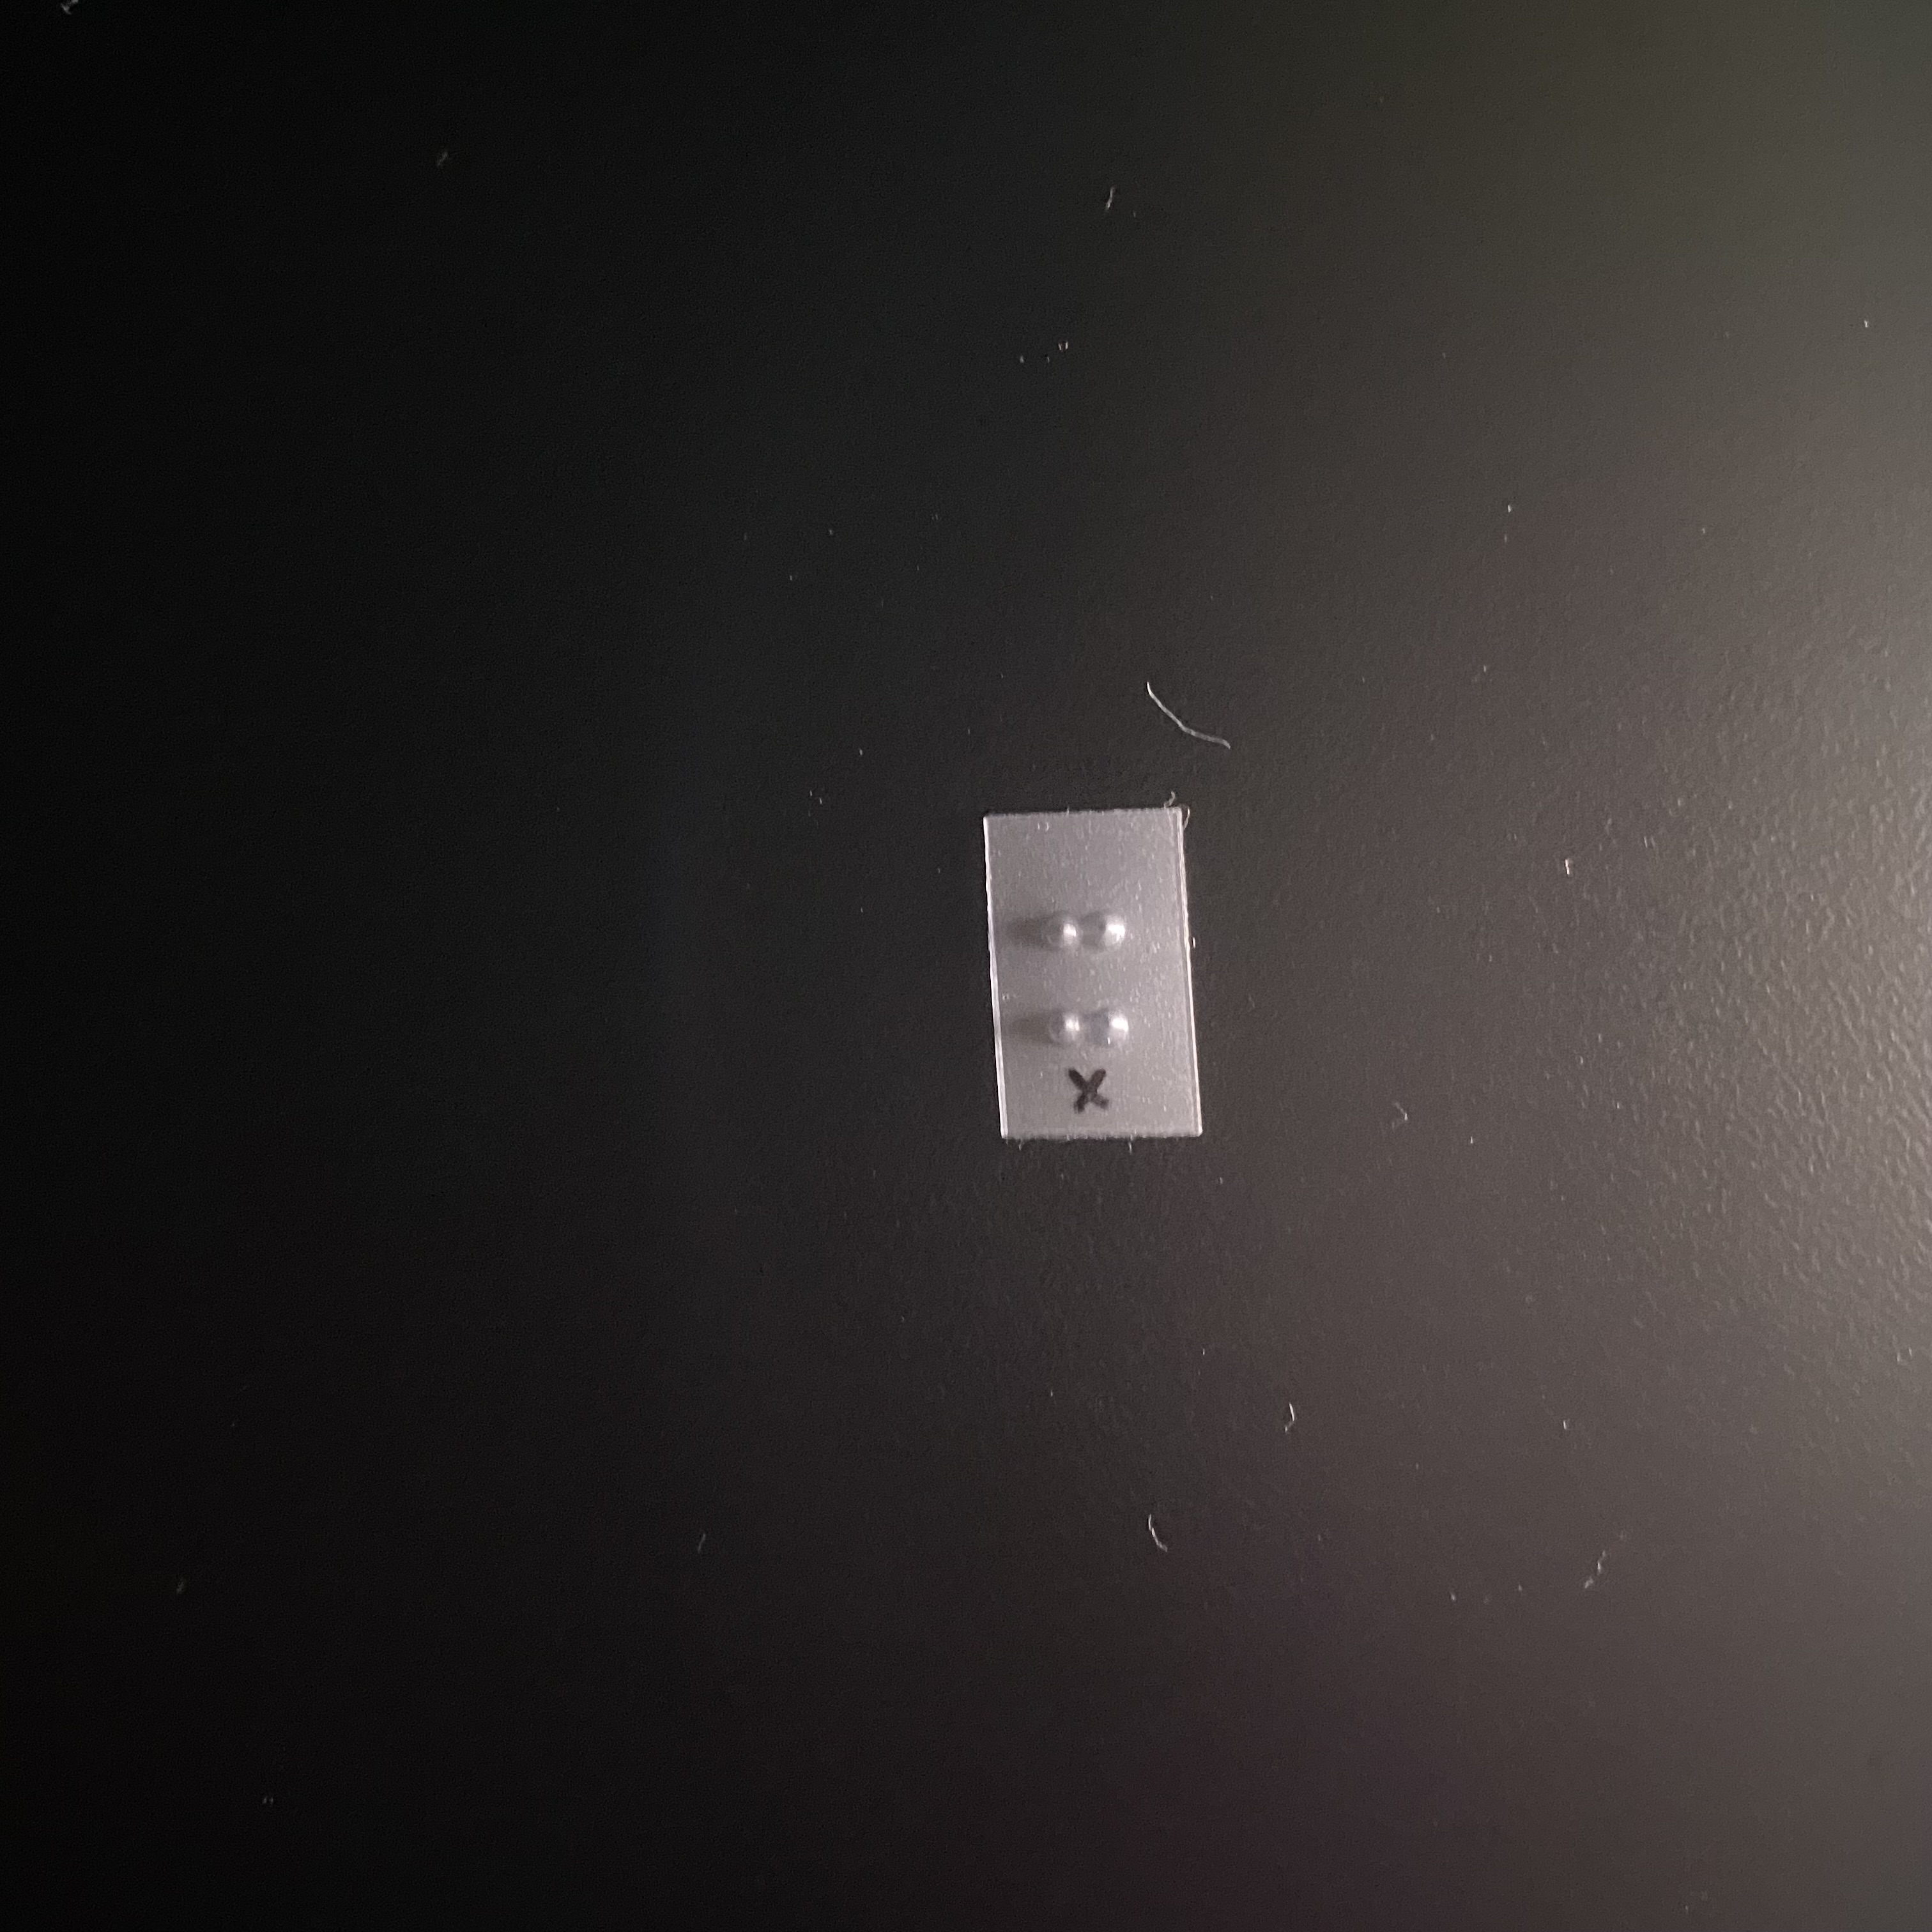x: (1009, 905, 1153, 1048)
